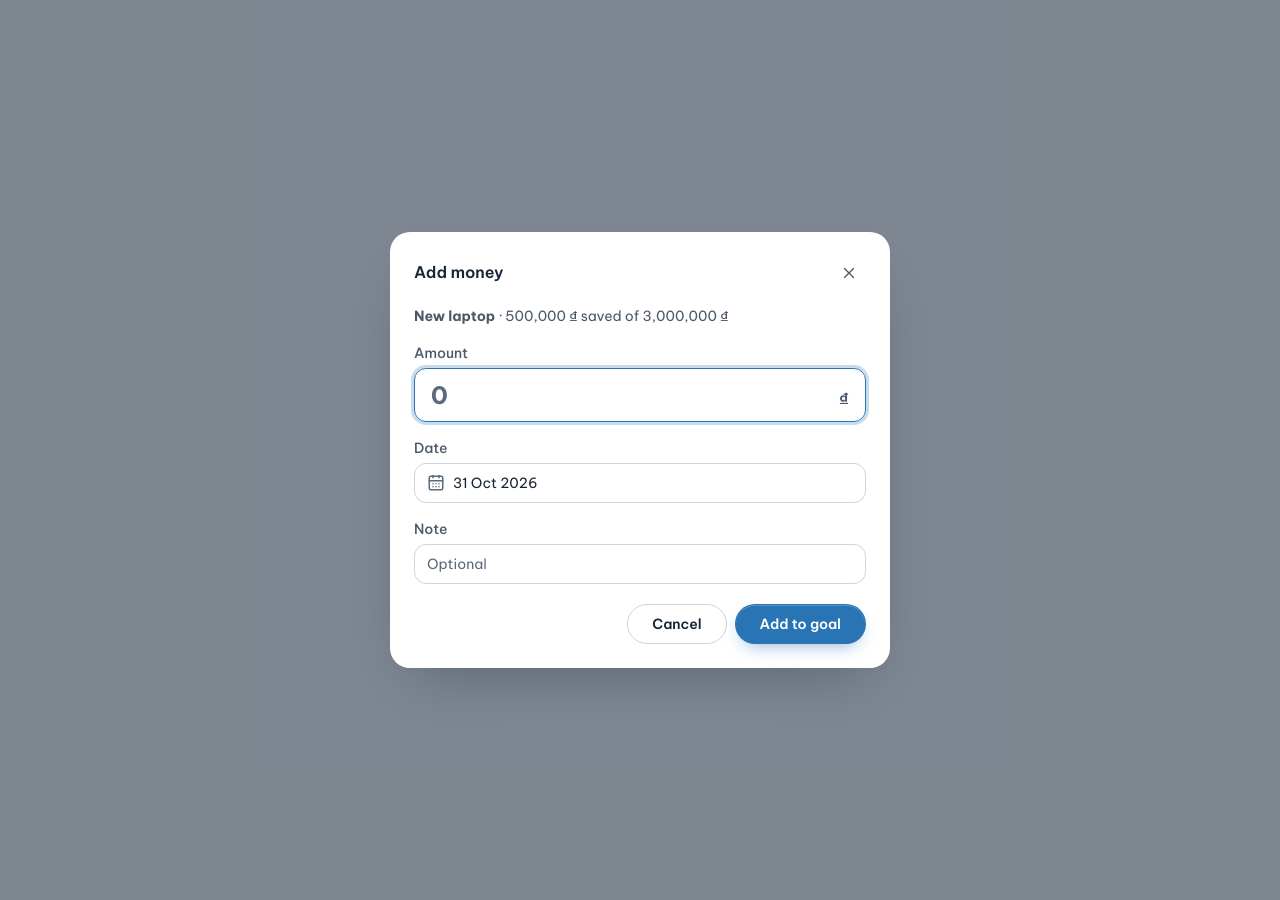
Scenario: MoneyDialog › keeps only digits in the amount and shows them with dots
This screenshot has width=1280, height=900.
Type "1a2.5,0e0" into the field labelled "Amount" at x=631, y=395, box x1=431 y1=377 x2=831 y2=413
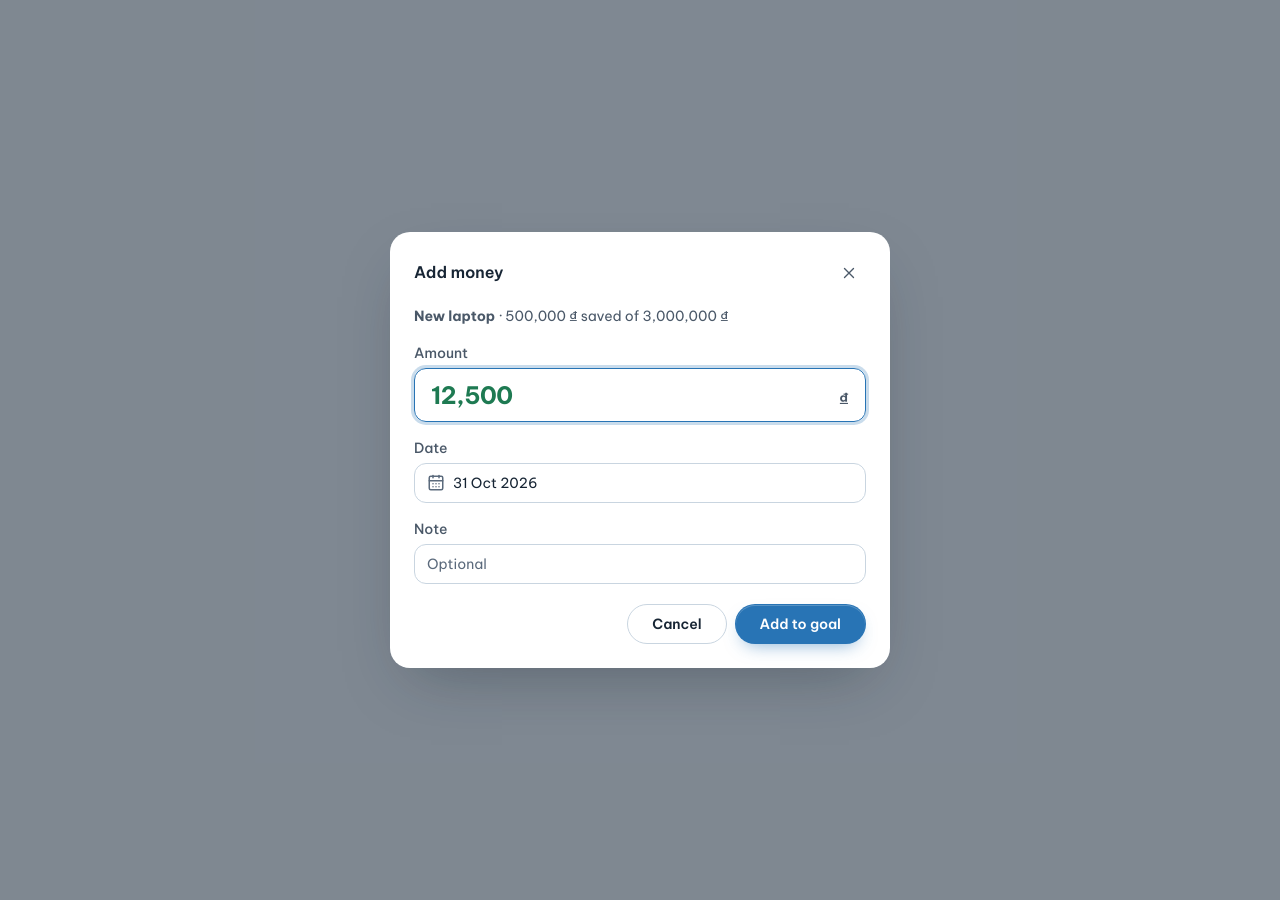
Expected: the field labelled "Amount" holds "12,500", x1=431 y1=377 x2=831 y2=413
